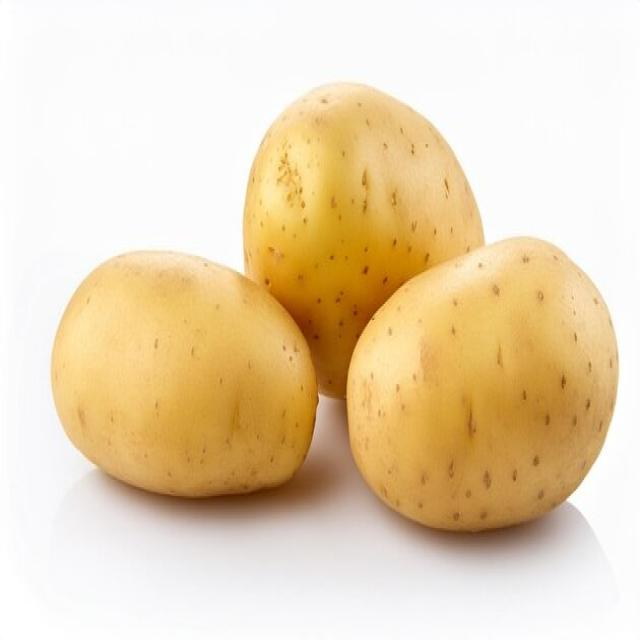Potato: (344, 233, 619, 533), (242, 78, 484, 400), (50, 247, 318, 498)
